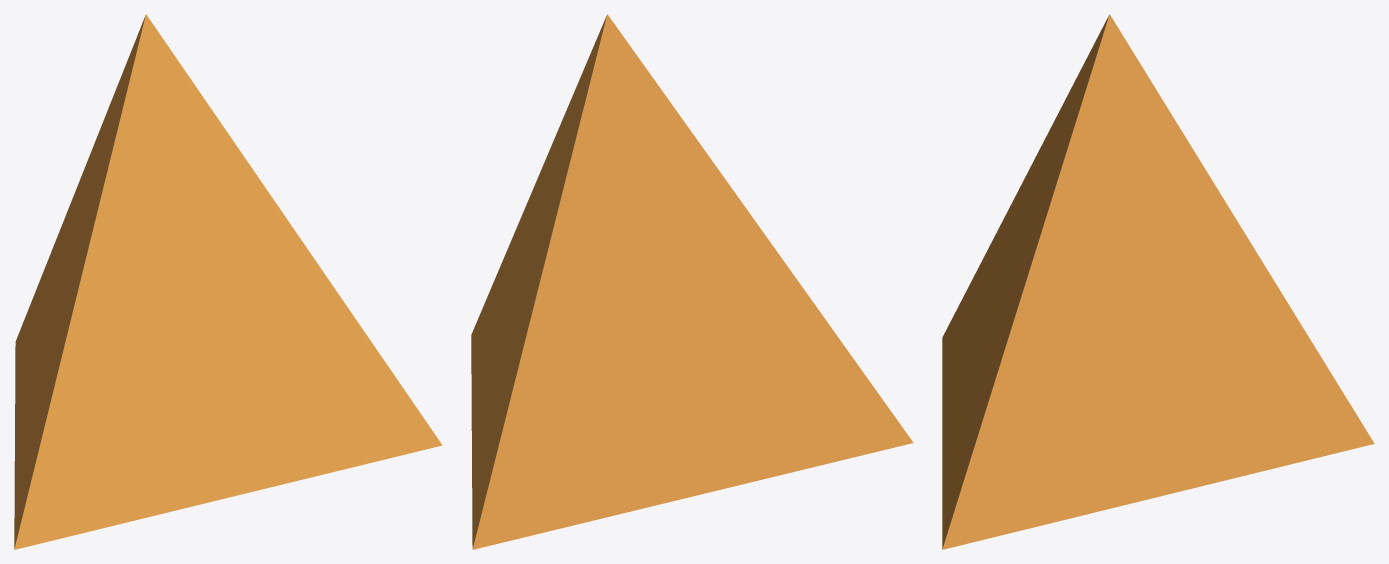
The model's file is solar-diagnostic.glb.
3 renders of one model, left to right at view 1: azimuth 30°, elevation 25°; view 2: azimuth 150°, elevation 25°; view 3: azimuth 270°, elevation 25°, orthographic. The views are drawn at different scales.
Visible parts, largest first — view 1: MissionFallbackModel; view 2: MissionFallbackModel; view 3: MissionFallbackModel.
Part boxes in pixels (left/top/right/bottom): MissionFallbackModel: left=14, top=14, right=442, bottom=549; MissionFallbackModel: left=471, top=14, right=913, bottom=549; MissionFallbackModel: left=942, top=14, right=1374, bottom=549.
Bounding box in the file's own units: 1.8 × 1.7 × 1.55.
